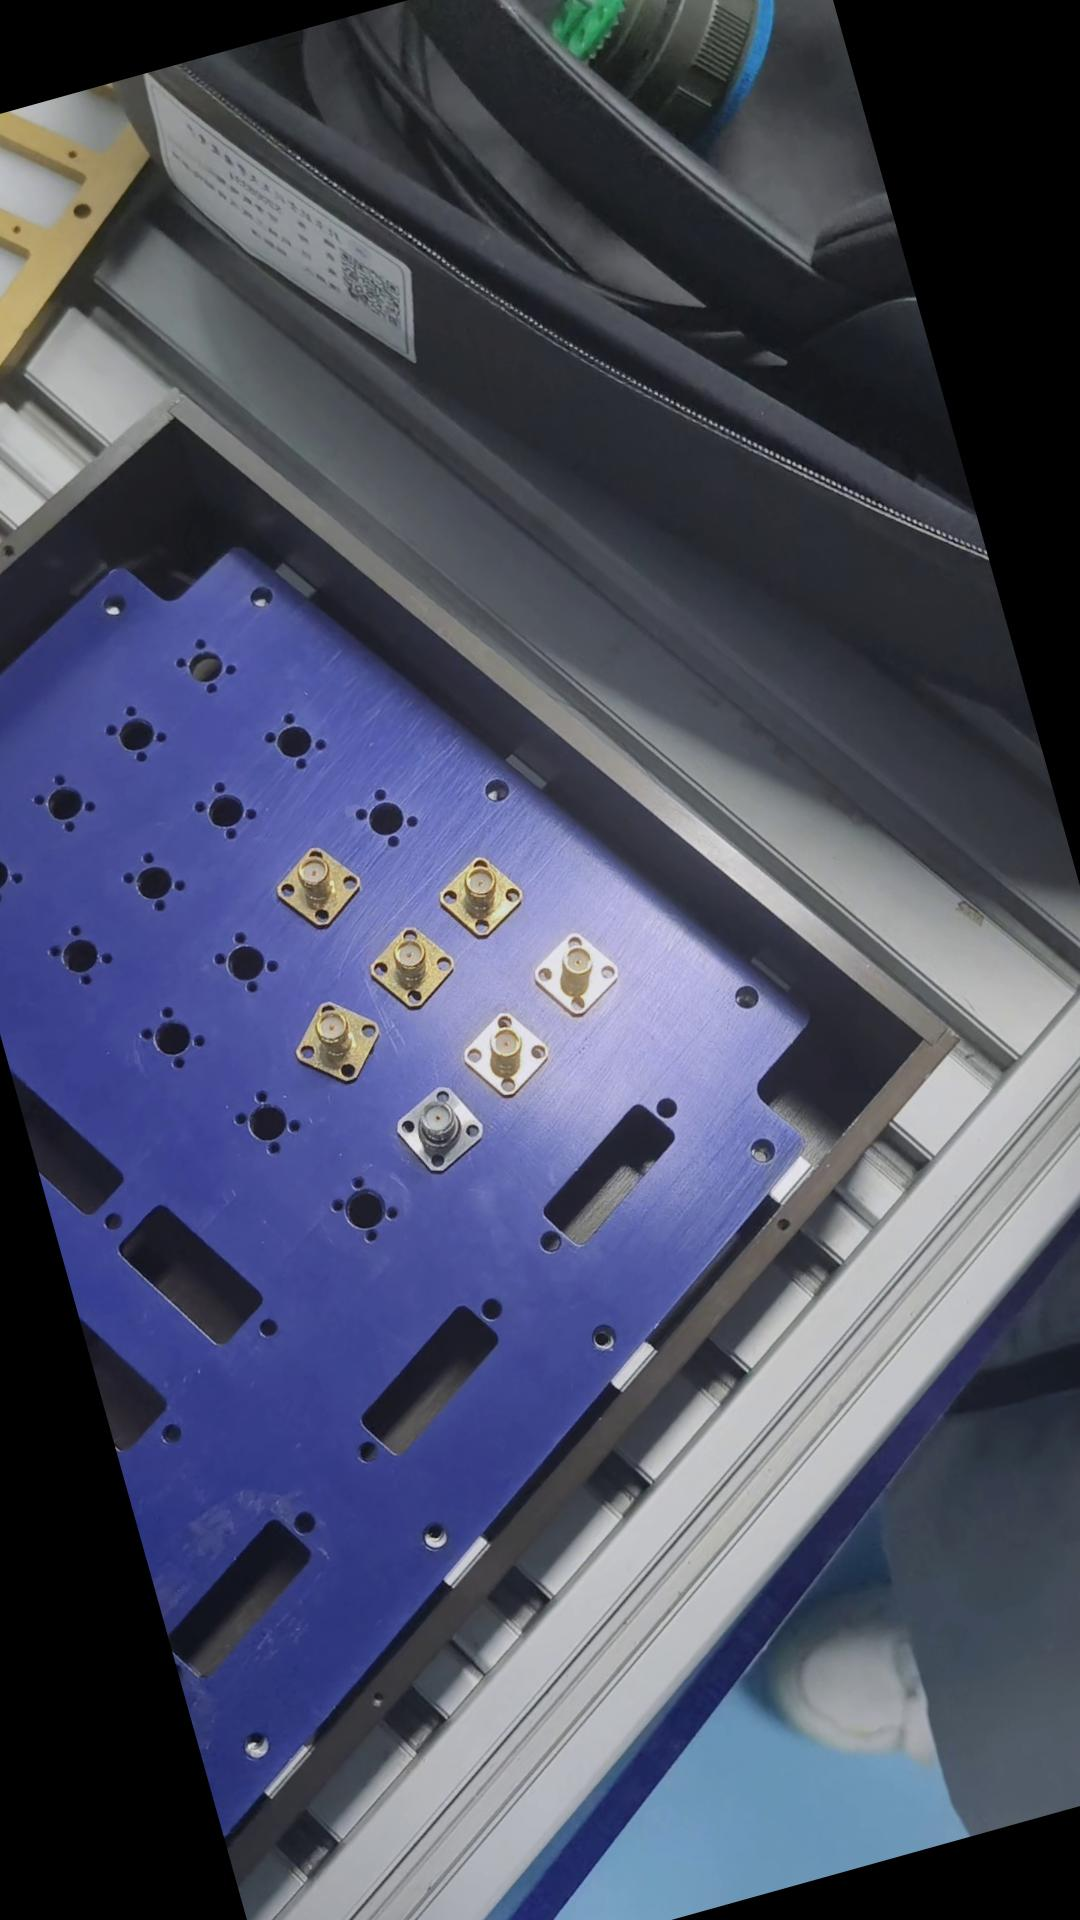SMA: (384, 1075, 492, 1187), (277, 990, 385, 1095), (355, 913, 456, 1021), (448, 1001, 549, 1106), (264, 839, 368, 939), (425, 845, 525, 948), (525, 922, 624, 1025)
